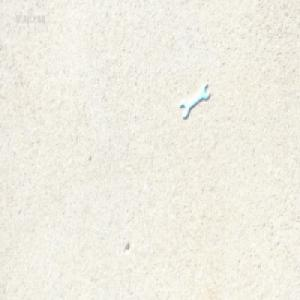Wrench: (180, 83, 209, 118)
